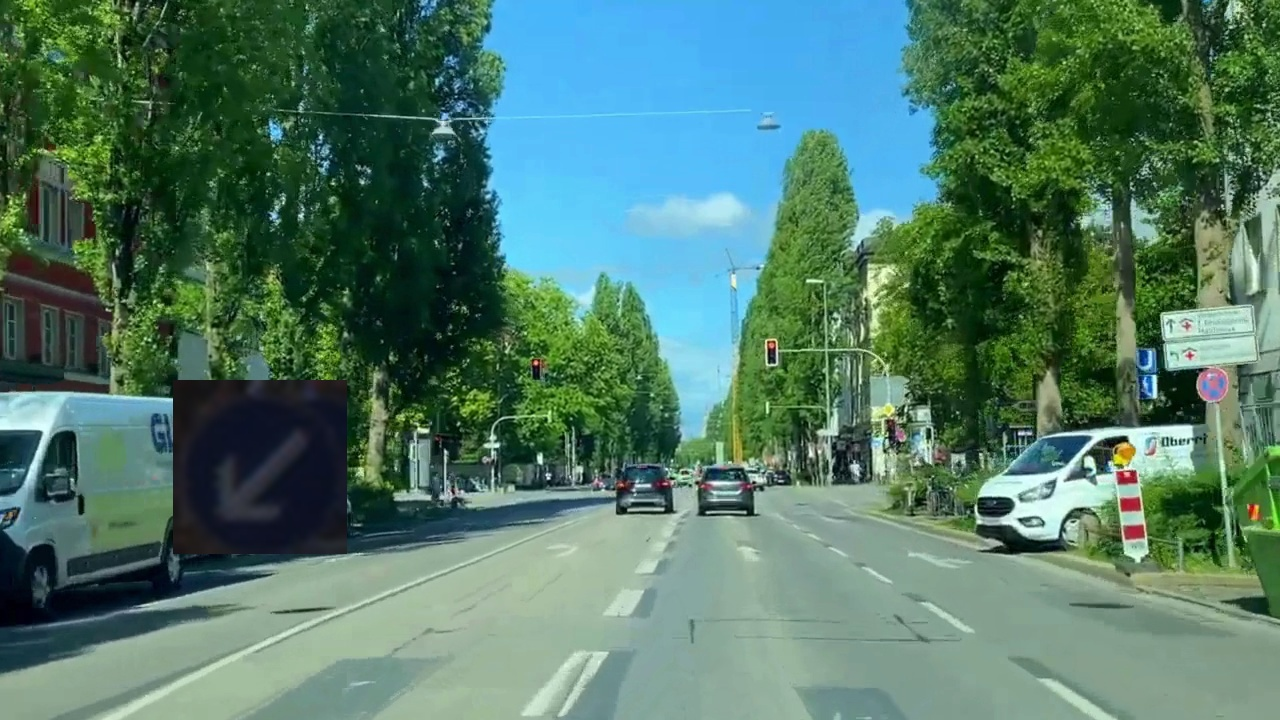Keep left: (173, 380, 347, 554)
